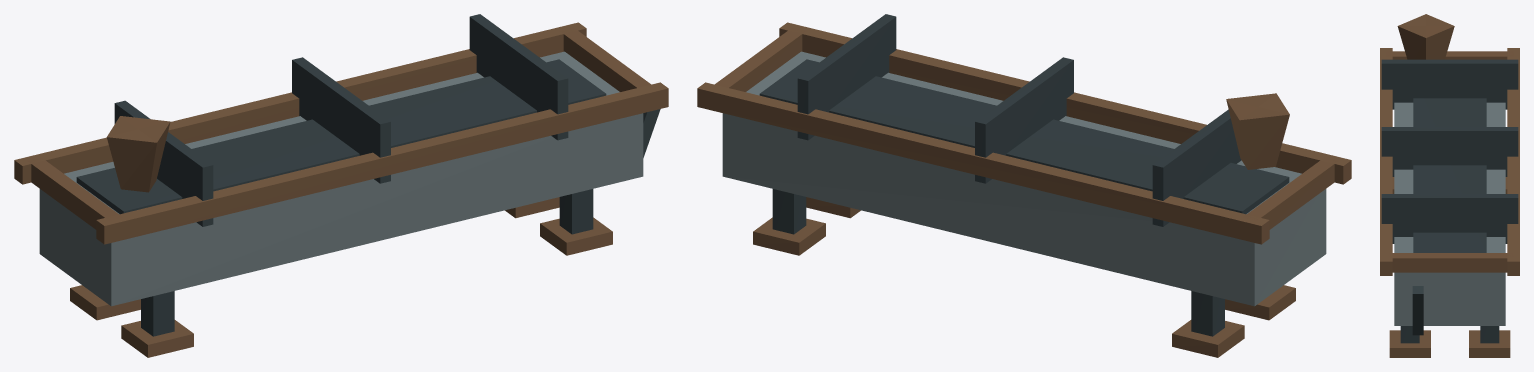
Rendered from feeding-trough.source.glb.
3 views of the same model, side by side, from view 1: azimuth 30°, elevation 25°; view 2: azimuth 150°, elevation 25°; view 3: azimuth 270°, elevation 25° (orthographic). The views are drawn at different scales.
Parts seen in each view (by area): view 1: feeding-trough-long-open-galvanized-basin-mesh, feeding-trough-reinforced-basin-rim-mesh (×2), feeding-trough-open-basin-interior-cue-mesh, feeding-trough-simple-feeding-divider-bar-mesh (×3), feeding-trough-wide-support-foot-mesh (×4), feeding-trough-reinforced-end-rim-mesh (×2), feeding-trough-small-feed-input-funnel-cue-mesh, feeding-trough-sturdy-grounded-support-leg-mesh (×2); view 2: feeding-trough-long-open-galvanized-basin-mesh, feeding-trough-reinforced-basin-rim-mesh (×2), feeding-trough-open-basin-interior-cue-mesh, feeding-trough-simple-feeding-divider-bar-mesh (×3), feeding-trough-wide-support-foot-mesh (×4), feeding-trough-reinforced-end-rim-mesh (×2), feeding-trough-small-feed-input-funnel-cue-mesh, feeding-trough-sturdy-grounded-support-leg-mesh (×2); view 3: feeding-trough-simple-feeding-divider-bar-mesh (×3), feeding-trough-long-open-galvanized-basin-mesh, feeding-trough-open-basin-interior-cue-mesh, feeding-trough-reinforced-basin-rim-mesh (×2), feeding-trough-reinforced-end-rim-mesh (×2), feeding-trough-small-feed-input-funnel-cue-mesh, feeding-trough-wide-support-foot-mesh (×2), feeding-trough-sturdy-grounded-support-leg-mesh (×2), feeding-trough-side-cleanout-lever-cue-mesh.
Boxes of the visible parts, <box> form: feeding-trough-long-open-galvanized-basin-mesh: <box>39,51,643,306</box>; feeding-trough-reinforced-basin-rim-mesh (×2): <box>14,22,668,244</box>; feeding-trough-open-basin-interior-cue-mesh: <box>76,59,606,214</box>; feeding-trough-simple-feeding-divider-bar-mesh (×3): <box>114,14,568,226</box>; feeding-trough-wide-support-foot-mesh (×4): <box>70,197,612,357</box>; feeding-trough-reinforced-end-rim-mesh (×2): <box>28,27,651,229</box>; feeding-trough-small-feed-input-funnel-cue-mesh: <box>106,116,170,192</box>; feeding-trough-sturdy-grounded-support-leg-mesh (×2): <box>141,189,593,336</box>; feeding-trough-long-open-galvanized-basin-mesh: <box>722,51,1326,306</box>; feeding-trough-reinforced-basin-rim-mesh (×2): <box>697,22,1351,244</box>; feeding-trough-open-basin-interior-cue-mesh: <box>759,59,1289,214</box>; feeding-trough-simple-feeding-divider-bar-mesh (×3): <box>797,14,1241,226</box>; feeding-trough-wide-support-foot-mesh (×4): <box>753,197,1295,357</box>; feeding-trough-reinforced-end-rim-mesh (×2): <box>714,27,1337,229</box>; feeding-trough-small-feed-input-funnel-cue-mesh: <box>1226,93,1289,169</box>; feeding-trough-sturdy-grounded-support-leg-mesh (×2): <box>772,189,1224,336</box>; feeding-trough-simple-feeding-divider-bar-mesh (×3): <box>1381,59,1518,243</box>; feeding-trough-long-open-galvanized-basin-mesh: <box>1394,102,1505,325</box>; feeding-trough-open-basin-interior-cue-mesh: <box>1413,98,1486,252</box>; feeding-trough-reinforced-basin-rim-mesh (×2): <box>1380,48,1519,275</box>; feeding-trough-reinforced-end-rim-mesh (×2): <box>1386,51,1513,272</box>; feeding-trough-small-feed-input-funnel-cue-mesh: <box>1397,14,1454,59</box>; feeding-trough-wide-support-foot-mesh (×2): <box>1389,330,1510,357</box>; feeding-trough-sturdy-grounded-support-leg-mesh (×2): <box>1400,326,1499,343</box>; feeding-trough-side-cleanout-lever-cue-mesh: <box>1412,286,1423,335</box>.
Bounding box in the file's own units: 3.26 × 1.12 × 0.88.
